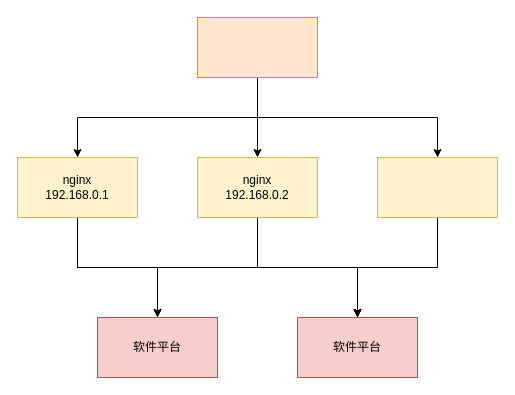
Some shapes in this 515 by 395 pixel diagram are drawn without their labels. Each missing label, with the box of its shape:
nginx 192.168.0.3: (376, 156, 498, 218)
虚拟ip 192.168.0.4: (196, 16, 318, 78)
